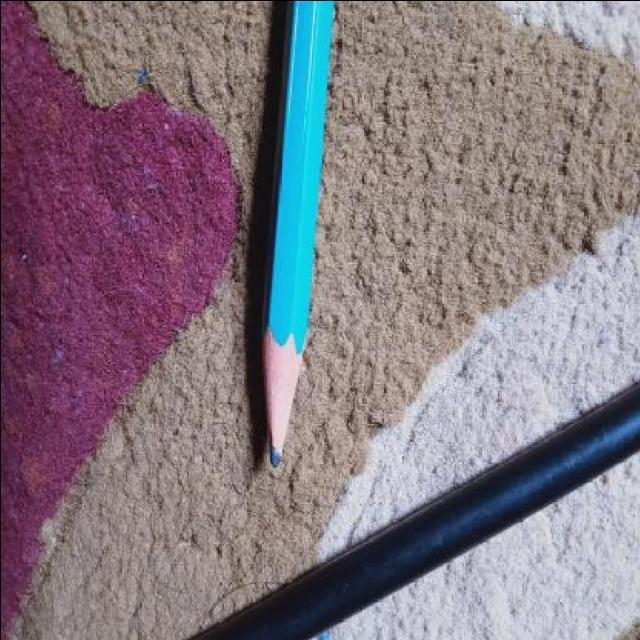pencil: (246, 312, 314, 478)
